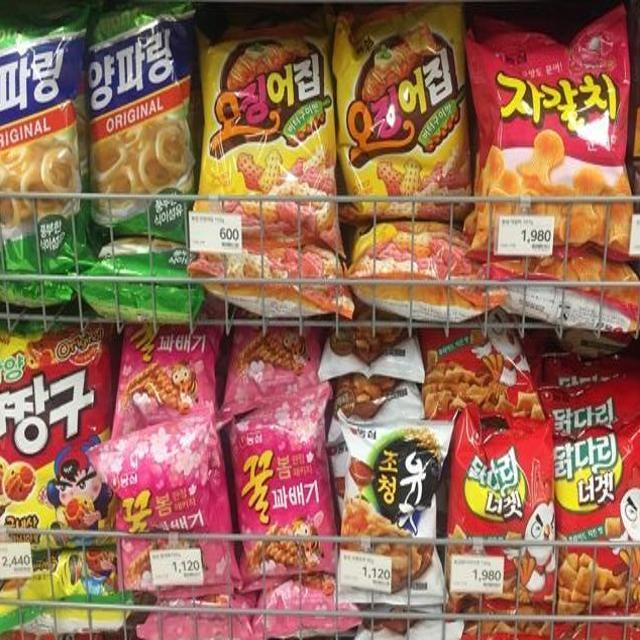product: (474, 27, 632, 252), (74, 4, 201, 267), (203, 29, 337, 252), (332, 11, 476, 217), (112, 419, 239, 592), (1, 328, 99, 536), (232, 411, 341, 588), (1, 8, 73, 263), (343, 409, 450, 580), (451, 421, 552, 598), (553, 432, 640, 607), (121, 325, 217, 417)
